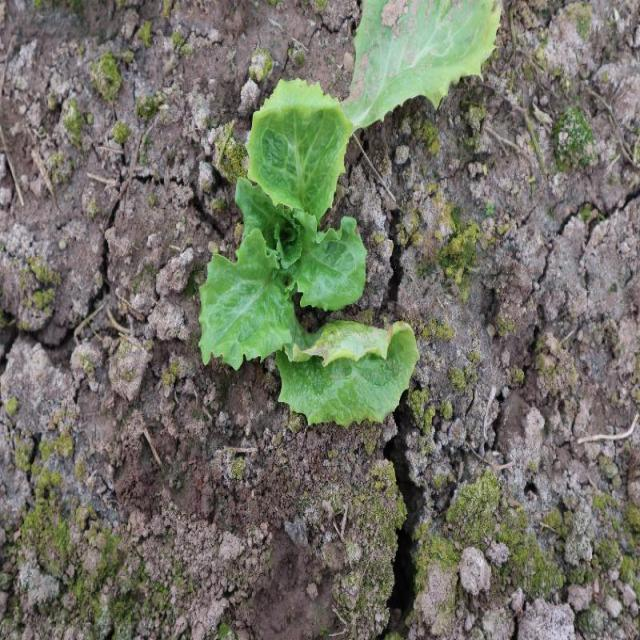crop: (201, 79, 417, 436)
